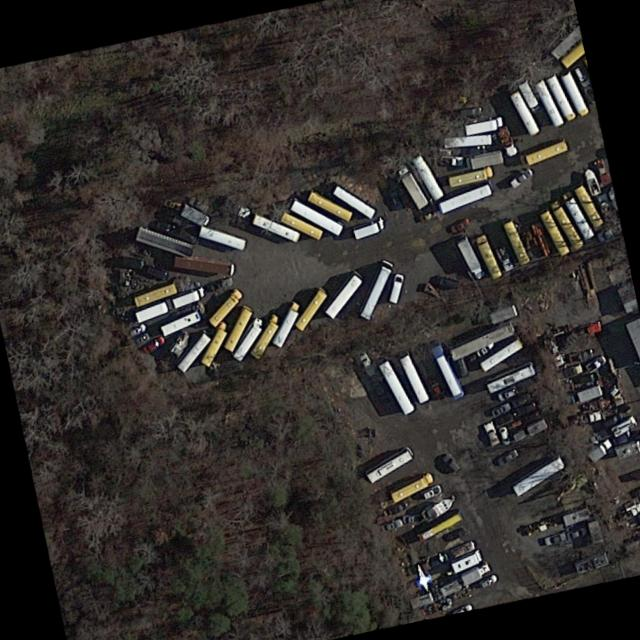large-vehicle: (358, 256, 395, 320), (362, 444, 417, 485), (512, 455, 565, 495), (378, 358, 415, 414), (430, 340, 464, 398), (290, 197, 343, 234), (325, 270, 364, 318), (230, 314, 266, 363), (415, 506, 464, 541), (398, 348, 429, 402), (550, 199, 584, 248), (438, 182, 492, 212), (539, 206, 571, 255), (562, 191, 595, 238), (333, 183, 377, 218), (294, 285, 328, 330), (479, 337, 523, 371), (223, 303, 254, 351), (508, 88, 540, 134), (412, 153, 444, 199), (534, 78, 564, 127), (486, 363, 536, 392), (573, 182, 605, 227), (250, 313, 282, 358), (397, 163, 429, 208), (546, 72, 576, 120), (208, 286, 244, 325), (307, 188, 352, 219), (176, 330, 210, 371), (252, 212, 300, 241), (520, 137, 569, 165), (173, 252, 235, 274), (390, 471, 434, 502), (272, 301, 301, 346), (201, 320, 230, 365), (560, 70, 589, 115), (133, 279, 181, 306), (475, 233, 503, 278), (502, 219, 530, 264), (198, 224, 246, 250), (280, 209, 321, 238), (457, 236, 485, 277), (160, 309, 201, 335), (462, 110, 503, 135), (516, 78, 543, 113), (447, 165, 492, 185), (351, 214, 386, 239), (457, 560, 491, 584), (179, 200, 210, 226), (450, 548, 482, 572), (135, 300, 169, 322), (171, 286, 206, 307), (586, 435, 613, 461), (467, 149, 503, 168), (444, 132, 492, 146), (388, 272, 404, 302)
ship: (420, 493, 457, 522), (582, 165, 602, 194)
small-vehicle: (356, 347, 378, 377), (508, 165, 534, 189), (593, 156, 612, 185), (482, 418, 500, 447), (583, 352, 608, 372), (449, 539, 475, 558), (494, 407, 518, 427), (572, 61, 591, 86), (474, 336, 496, 356), (441, 451, 463, 471), (496, 446, 519, 465), (420, 481, 443, 500), (141, 334, 165, 352), (146, 262, 170, 280), (490, 399, 512, 418), (433, 273, 459, 289), (496, 383, 519, 401), (442, 525, 466, 542), (380, 516, 404, 533), (543, 530, 568, 546), (449, 214, 470, 233), (576, 409, 602, 424), (479, 570, 499, 588), (157, 217, 178, 233), (510, 392, 531, 407), (497, 423, 511, 445), (568, 524, 589, 538), (439, 153, 463, 165), (128, 321, 147, 336), (132, 330, 151, 345), (516, 400, 536, 414), (162, 196, 181, 210), (402, 512, 422, 523), (630, 467, 640, 481)
